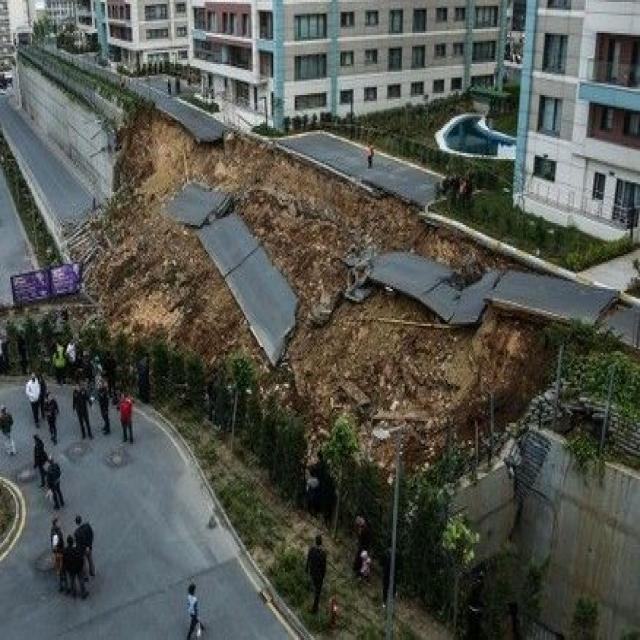collapsed_building: (100, 120, 588, 557)
